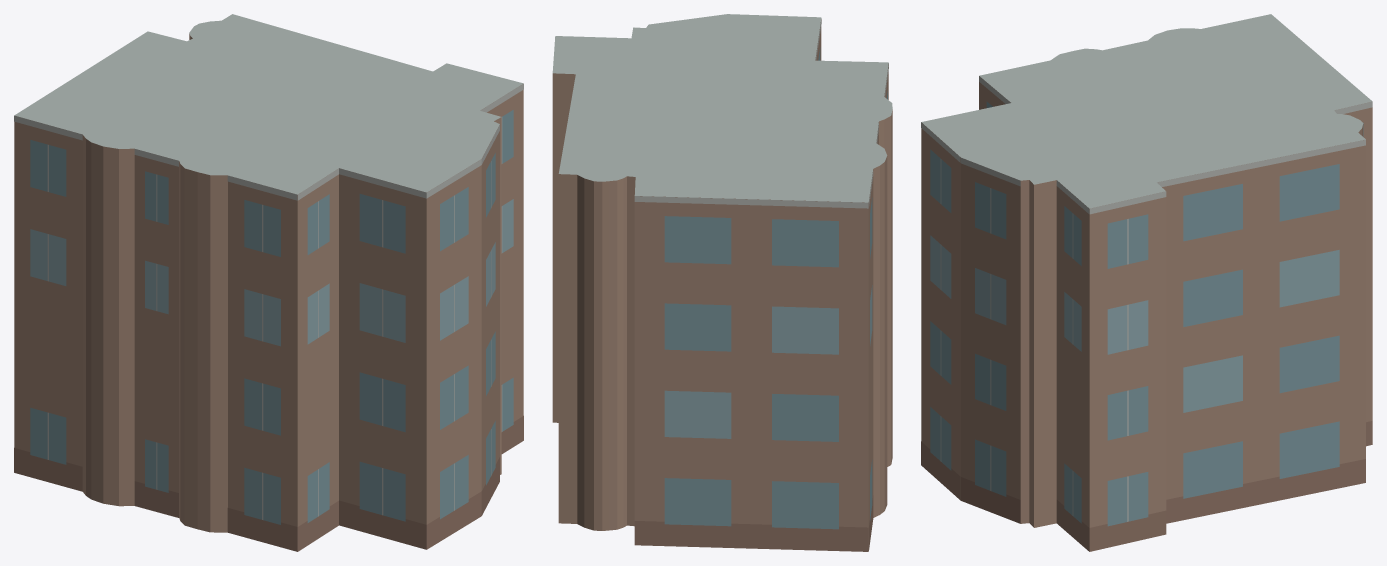
The model's file is survey-upis-33030169.glb.
3 renders of one model, left to right at view 1: azimuth 30°, elevation 25°; view 2: azimuth 150°, elevation 25°; view 3: azimuth 270°, elevation 25°, orthographic. The views are drawn at different scales.
Parts seen in each view (by area): view 1: survey-upis-33030169.tmp; view 2: survey-upis-33030169.tmp; view 3: survey-upis-33030169.tmp.
Boxes of the visible parts, bbox=[...] form: survey-upis-33030169.tmp: bbox=[14, 14, 523, 551]; survey-upis-33030169.tmp: bbox=[552, 14, 892, 551]; survey-upis-33030169.tmp: bbox=[921, 14, 1372, 551].
Bounding box in the file's own units: 17.4 × 14.3 × 17.05.
